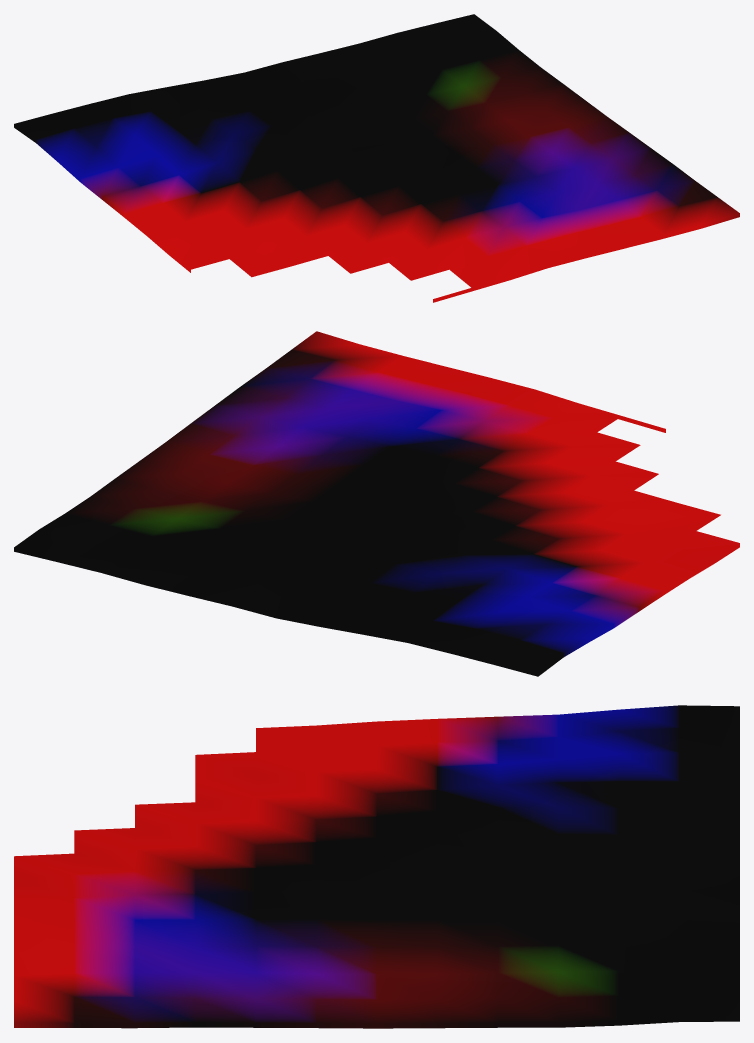
File: coast_23_8.glb
3 views of the same model, one above another, from view 1: azimuth 30°, elevation 25°; view 2: azimuth 150°, elevation 25°; view 3: azimuth 270°, elevation 25° (orthographic). The views are drawn at different scales.
Parts seen in each view (by area): view 1: terrain; view 2: terrain; view 3: terrain.
Part boxes in pixels (left/top/right/bottom): terrain: left=14, top=14, right=739, bottom=302; terrain: left=14, top=331, right=739, bottom=676; terrain: left=14, top=705, right=739, bottom=1028.
Size of the model in its own units: 192 by 10.05 by 192.
